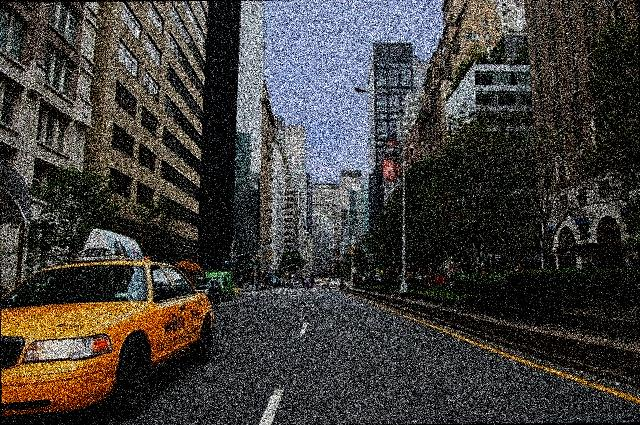taxi: (1, 250, 225, 418)
